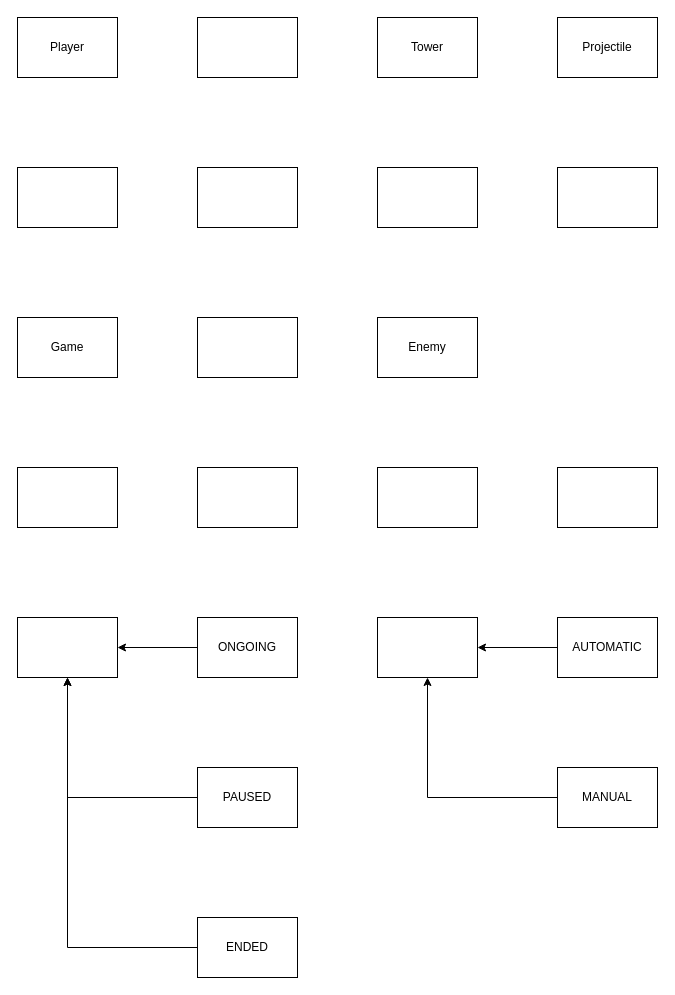
This 675x995 diagram has some shape labels left out. The shapes that lost their labels are listed below. From the top down, each one's centre as x and y in pixels, then its label:
At [67,647]: "GameState".
At [427,647]: "ControlMode".
